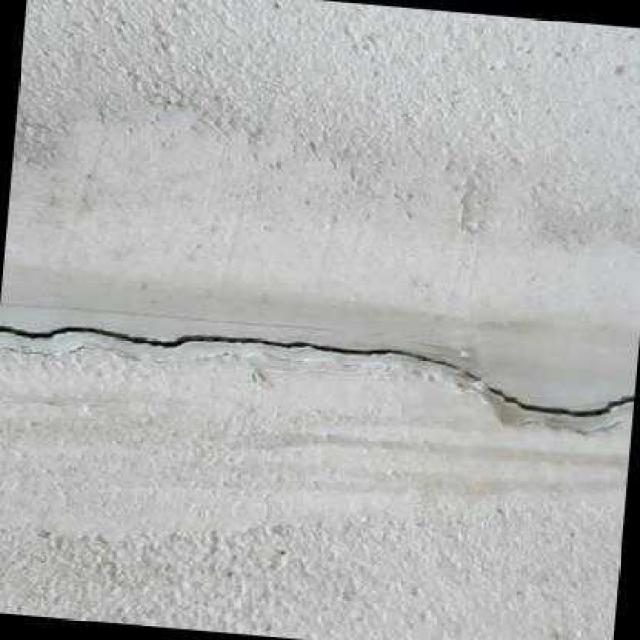D00: (0, 324, 635, 417)
